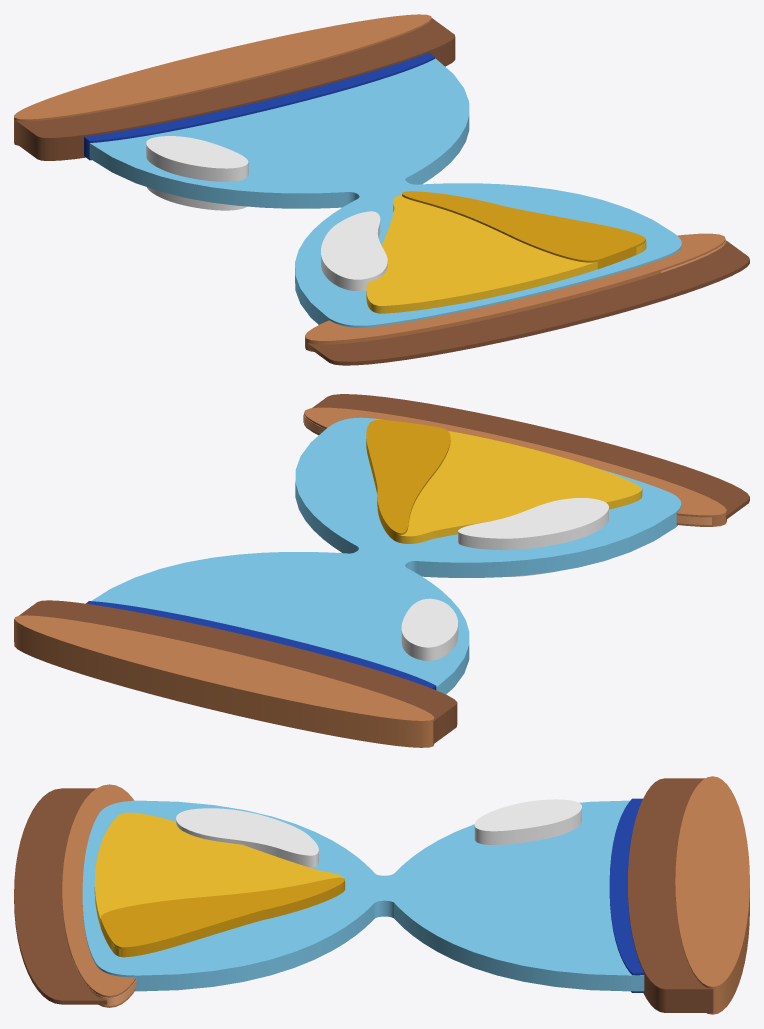
File: emoji_u231b.glb
3 renders of one model, top to bottom at view 1: azimuth 30°, elevation 25°; view 2: azimuth 150°, elevation 25°; view 3: azimuth 270°, elevation 25°, orthographic. The views are drawn at different scales.
Visible parts, largest first — view 1: emoji_u231b; view 2: emoji_u231b; view 3: emoji_u231b.
Boxes of the visible parts, <box> form: emoji_u231b: <box>14,14,749,365</box>; emoji_u231b: <box>14,394,749,747</box>; emoji_u231b: <box>14,776,749,1014</box>.
Size of the model in its own units: 0.023 by 0.0022 by 0.0337.
